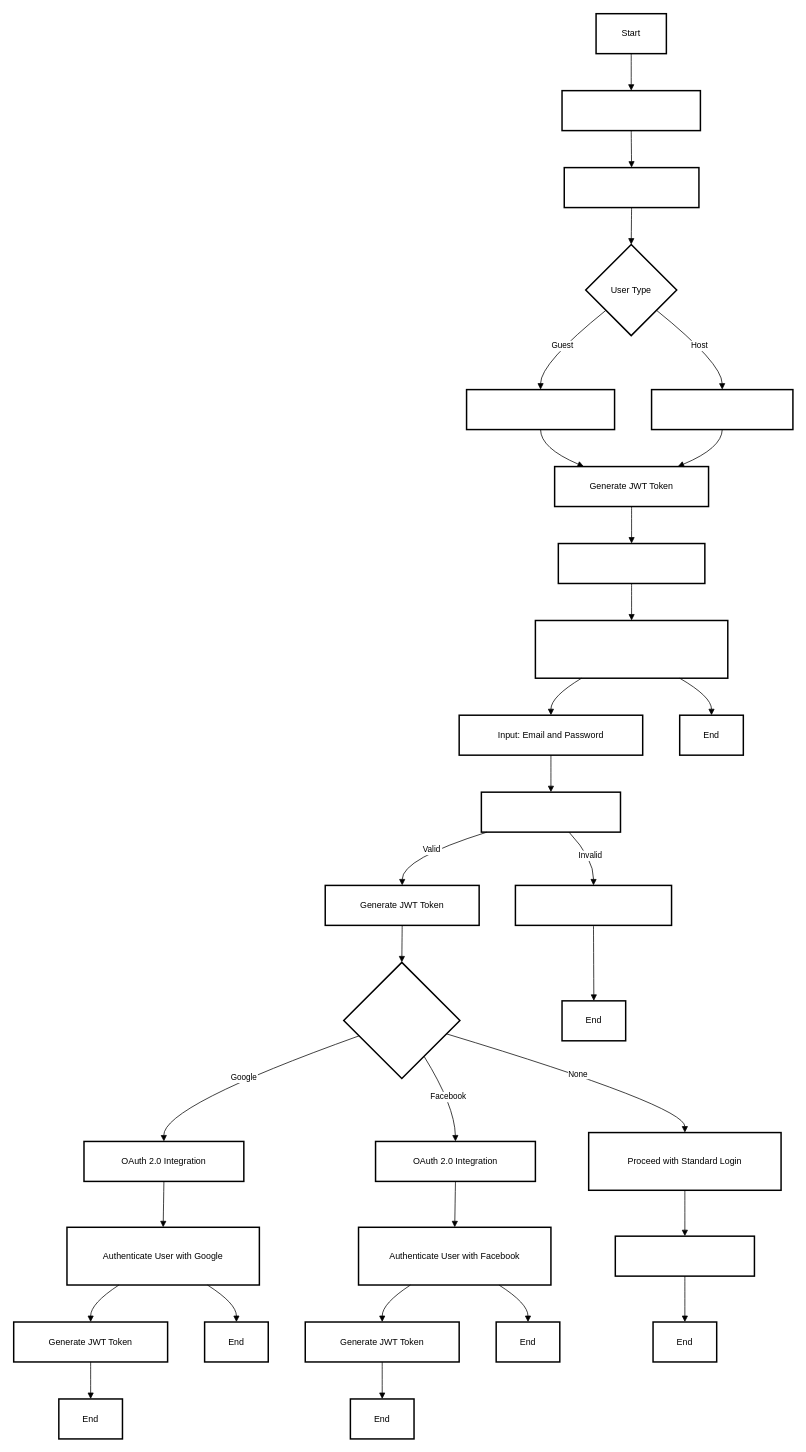
This 806x1452 diagram has some shape labels left out. The box of each missing label's shape, as (x1, y1, x2, y2) in pixels:
Confirmation Email: (557, 542, 705, 584)
OAuth Options: (343, 961, 460, 1079)
Return Error Message: (514, 884, 672, 926)
Return JWT Token: (614, 1235, 755, 1276)
Store User as Guest: (465, 388, 615, 430)
Store User as Host: (650, 388, 793, 430)
User Login & Authentication: (534, 619, 728, 679)
User Management: (561, 90, 701, 131)
User Registration: (563, 166, 699, 208)
Verify Credentials: (480, 791, 621, 832)
